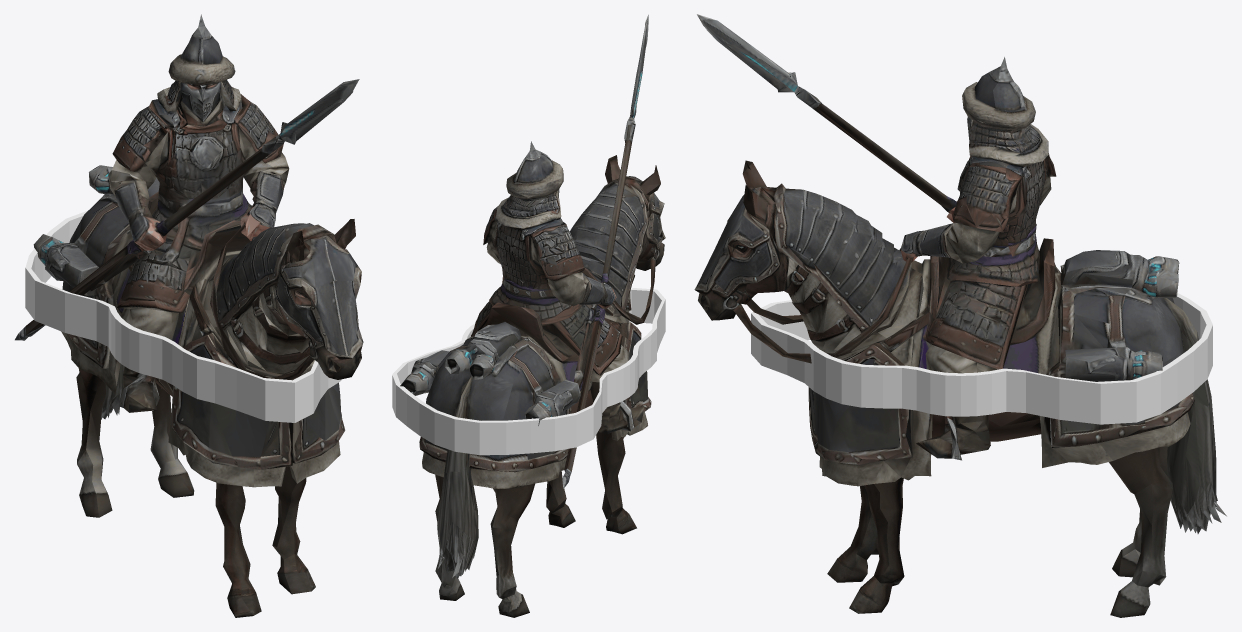
Rendered from steppe_jet_lancer.glb.
3 renders of one model, left to right at view 1: azimuth 30°, elevation 25°; view 2: azimuth 150°, elevation 25°; view 3: azimuth 270°, elevation 25°, orthographic. The views are drawn at different scales.
Visible parts, largest first — view 1: steppe_jet_lancer, Team_band; view 2: steppe_jet_lancer, Team_band; view 3: steppe_jet_lancer, Team_band.
Part boxes in pixels (bbox=[...]): steppe_jet_lancer: bbox=[15, 14, 363, 617]; Team_band: bbox=[25, 210, 342, 422]; steppe_jet_lancer: bbox=[400, 14, 665, 617]; Team_band: bbox=[392, 288, 665, 455]; steppe_jet_lancer: bbox=[694, 14, 1226, 617]; Team_band: bbox=[751, 293, 1212, 424].
Size of the model in its own units: 0.4147 by 0.9769 by 0.8097.
Materials: 2 (1 with a texture image).
